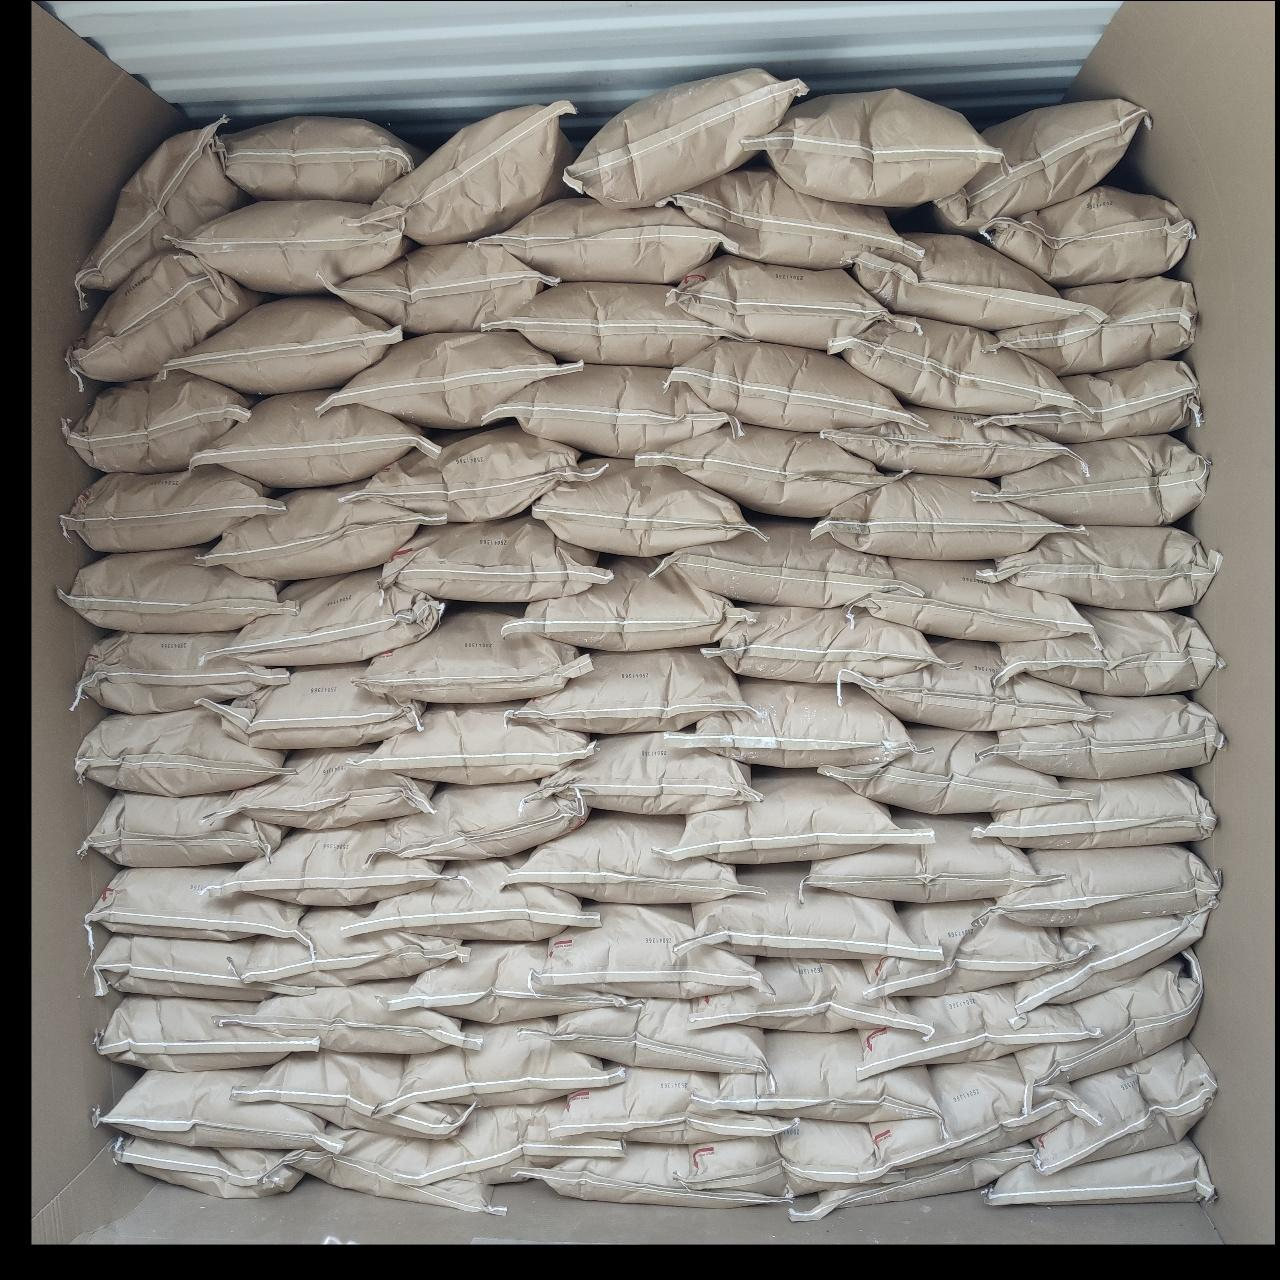sack: (568, 70, 804, 206), (368, 100, 574, 244), (928, 100, 1148, 234), (74, 124, 241, 297), (750, 90, 998, 206), (872, 1056, 1094, 1172), (666, 168, 915, 270), (68, 254, 263, 382), (1032, 1040, 1214, 1175), (660, 770, 930, 862), (190, 390, 438, 486), (326, 332, 580, 425), (1020, 952, 1198, 1085), (692, 864, 940, 958), (638, 424, 892, 516), (672, 254, 912, 350), (346, 424, 592, 518), (1016, 899, 1217, 1012), (162, 200, 408, 292), (504, 558, 745, 651), (838, 316, 1068, 414), (806, 812, 1054, 903), (856, 986, 1096, 1078), (488, 366, 740, 454), (200, 486, 442, 578), (670, 338, 908, 430), (508, 813, 754, 903), (164, 298, 399, 390), (842, 640, 1088, 728), (822, 726, 1070, 812), (812, 474, 1065, 558), (474, 198, 724, 282), (864, 903, 1085, 998), (983, 184, 1194, 284), (366, 608, 590, 702), (852, 236, 1084, 326), (236, 1051, 470, 1141), (658, 518, 894, 606), (535, 459, 750, 556), (226, 568, 444, 663), (342, 858, 594, 940), (696, 1032, 934, 1118), (542, 904, 758, 998), (978, 436, 1208, 524), (202, 822, 452, 903), (328, 244, 556, 332), (515, 651, 753, 734), (386, 1024, 622, 1108), (983, 694, 1223, 776), (482, 282, 716, 366), (686, 680, 910, 765), (994, 608, 1218, 694), (980, 526, 1220, 606), (94, 1068, 326, 1150), (855, 560, 1092, 640), (57, 549, 292, 629), (286, 1126, 502, 1214), (994, 278, 1196, 372), (394, 942, 626, 1022), (204, 663, 422, 748), (382, 516, 606, 598), (994, 844, 1218, 926), (230, 978, 476, 1051), (64, 374, 252, 470), (794, 1144, 1028, 1220), (510, 1142, 782, 1207), (216, 745, 433, 828), (704, 606, 938, 682), (62, 468, 278, 550), (976, 360, 1198, 440), (362, 704, 590, 782), (824, 408, 1082, 476), (974, 774, 1214, 846), (554, 1068, 790, 1142), (540, 734, 758, 813), (688, 958, 924, 1030), (535, 1000, 765, 1074), (76, 708, 284, 790), (416, 1099, 622, 1182), (248, 908, 467, 986), (76, 632, 286, 710), (376, 782, 586, 860), (96, 996, 316, 1070), (222, 118, 422, 198), (986, 1138, 1214, 1206), (82, 792, 286, 866), (86, 869, 302, 938), (678, 1121, 880, 1194), (91, 934, 309, 1000), (113, 1133, 300, 1198)
